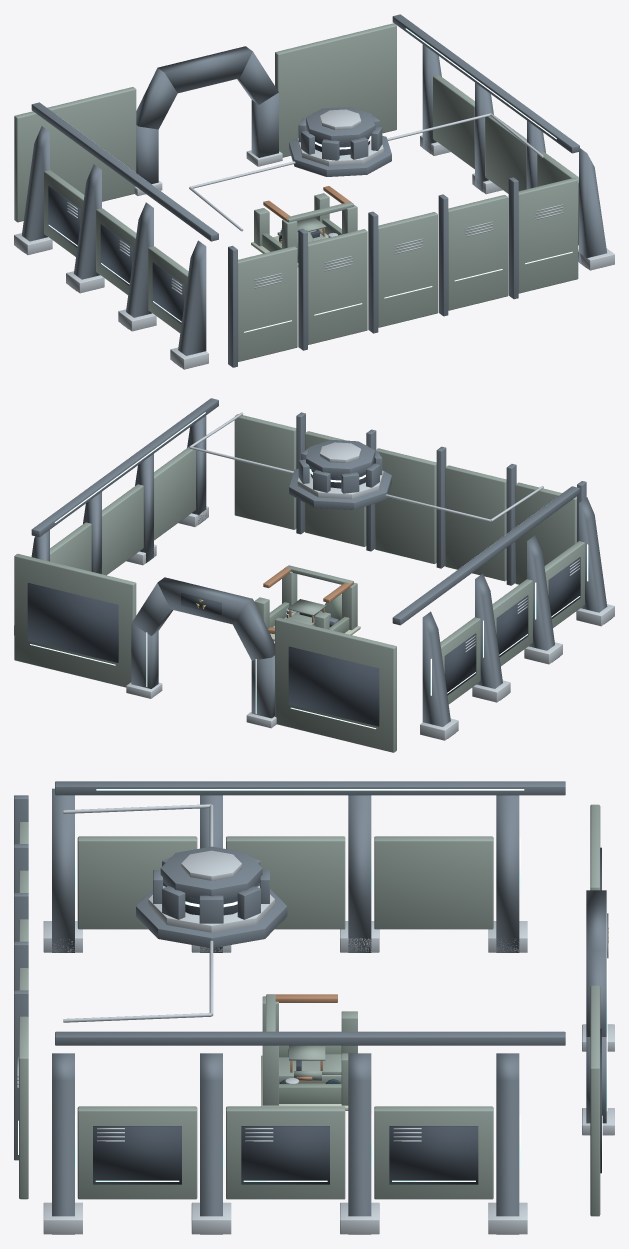
Rendered from radioactive_vault_import.fbx.
3 renders of one model, top to bottom at view 1: azimuth 30°, elevation 25°; view 2: azimuth 150°, elevation 25°; view 3: azimuth 270°, elevation 25°, orthographic. The views are drawn at different scales.
Visible parts, largest first — view 1: GS_ContainmentShell_WeatheredMetal, GS_ContainmentShell_DarkMetal, GS_ContainmentShell_SecondaryMetal, GS_ContainmentShell_PanelPlastic, GS_RelayRuins_WeatheredMetal, GS_ContainmentShell_EnergyGreen, GS_RelayRuins_MossRock; view 2: GS_ContainmentShell_WeatheredMetal, GS_ContainmentShell_DarkMetal, GS_ContainmentShell_PanelPlastic, GS_ContainmentShell_SecondaryMetal, GS_RelayRuins_WeatheredMetal, GS_ContainmentShell_EnergyGreen, GS_RelayRuins_MossRock, GS_SurveyRover_WeatheredMetal, GS_RelayRuins_OxideRust; view 3: GS_ContainmentShell_DarkMetal, GS_ContainmentShell_WeatheredMetal, GS_ContainmentShell_PanelPlastic, GS_ContainmentShell_SecondaryMetal, GS_RelayRuins_WeatheredMetal, GS_ContainmentShell_EnergyGreen, GS_SurveyRover_WeatheredMetal, GS_RelayRuins_MossRock.
Boxes of the visible parts, x1,y1,x2,y2 form: GS_ContainmentShell_WeatheredMetal: (14,23,578,361); GS_ContainmentShell_DarkMetal: (17,14,606,367); GS_ContainmentShell_SecondaryMetal: (14,109,614,369); GS_ContainmentShell_PanelPlastic: (48,137,369,324); GS_RelayRuins_WeatheredMetal: (254,193,357,248); GS_ContainmentShell_EnergyGreen: (48,28,572,332); GS_RelayRuins_MossRock: (262,218,341,262); GS_ContainmentShell_WeatheredMetal: (14,414,584,752); GS_ContainmentShell_DarkMetal: (31,398,611,738); GS_ContainmentShell_PanelPlastic: (27,470,580,726); GS_ContainmentShell_SecondaryMetal: (14,412,614,740); GS_RelayRuins_WeatheredMetal: (254,565,357,630); GS_ContainmentShell_EnergyGreen: (30,412,588,729); GS_RelayRuins_MossRock: (269,594,349,633); GS_SurveyRover_WeatheredMetal: (286,599,330,625); GS_RelayRuins_OxideRust: (263,566,353,633); GS_ContainmentShell_DarkMetal: (14,781,606,1234); GS_ContainmentShell_WeatheredMetal: (19,804,600,1216); GS_ContainmentShell_PanelPlastic: (93,847,608,1184); GS_ContainmentShell_SecondaryMetal: (17,804,614,1234); GS_RelayRuins_WeatheredMetal: (262,994,357,1105); GS_ContainmentShell_EnergyGreen: (18,789,607,1181); GS_SurveyRover_WeatheredMetal: (279,1045,341,1083); GS_RelayRuins_MossRock: (279,1045,341,1103).
Size of the model in its own units: 8600 by 2978 by 7300.
